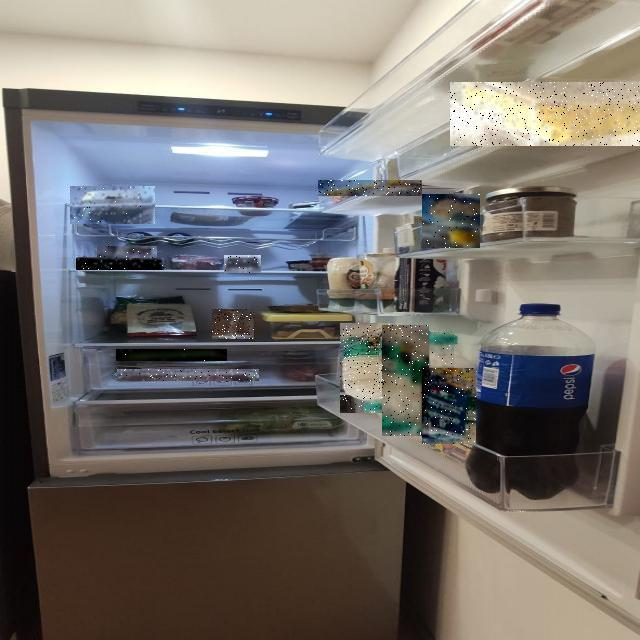cheese: (86, 170, 340, 508)
egg: (0, 112, 148, 336)
milk: (176, 214, 630, 640), (184, 222, 640, 640), (168, 219, 596, 640), (144, 206, 536, 620)
